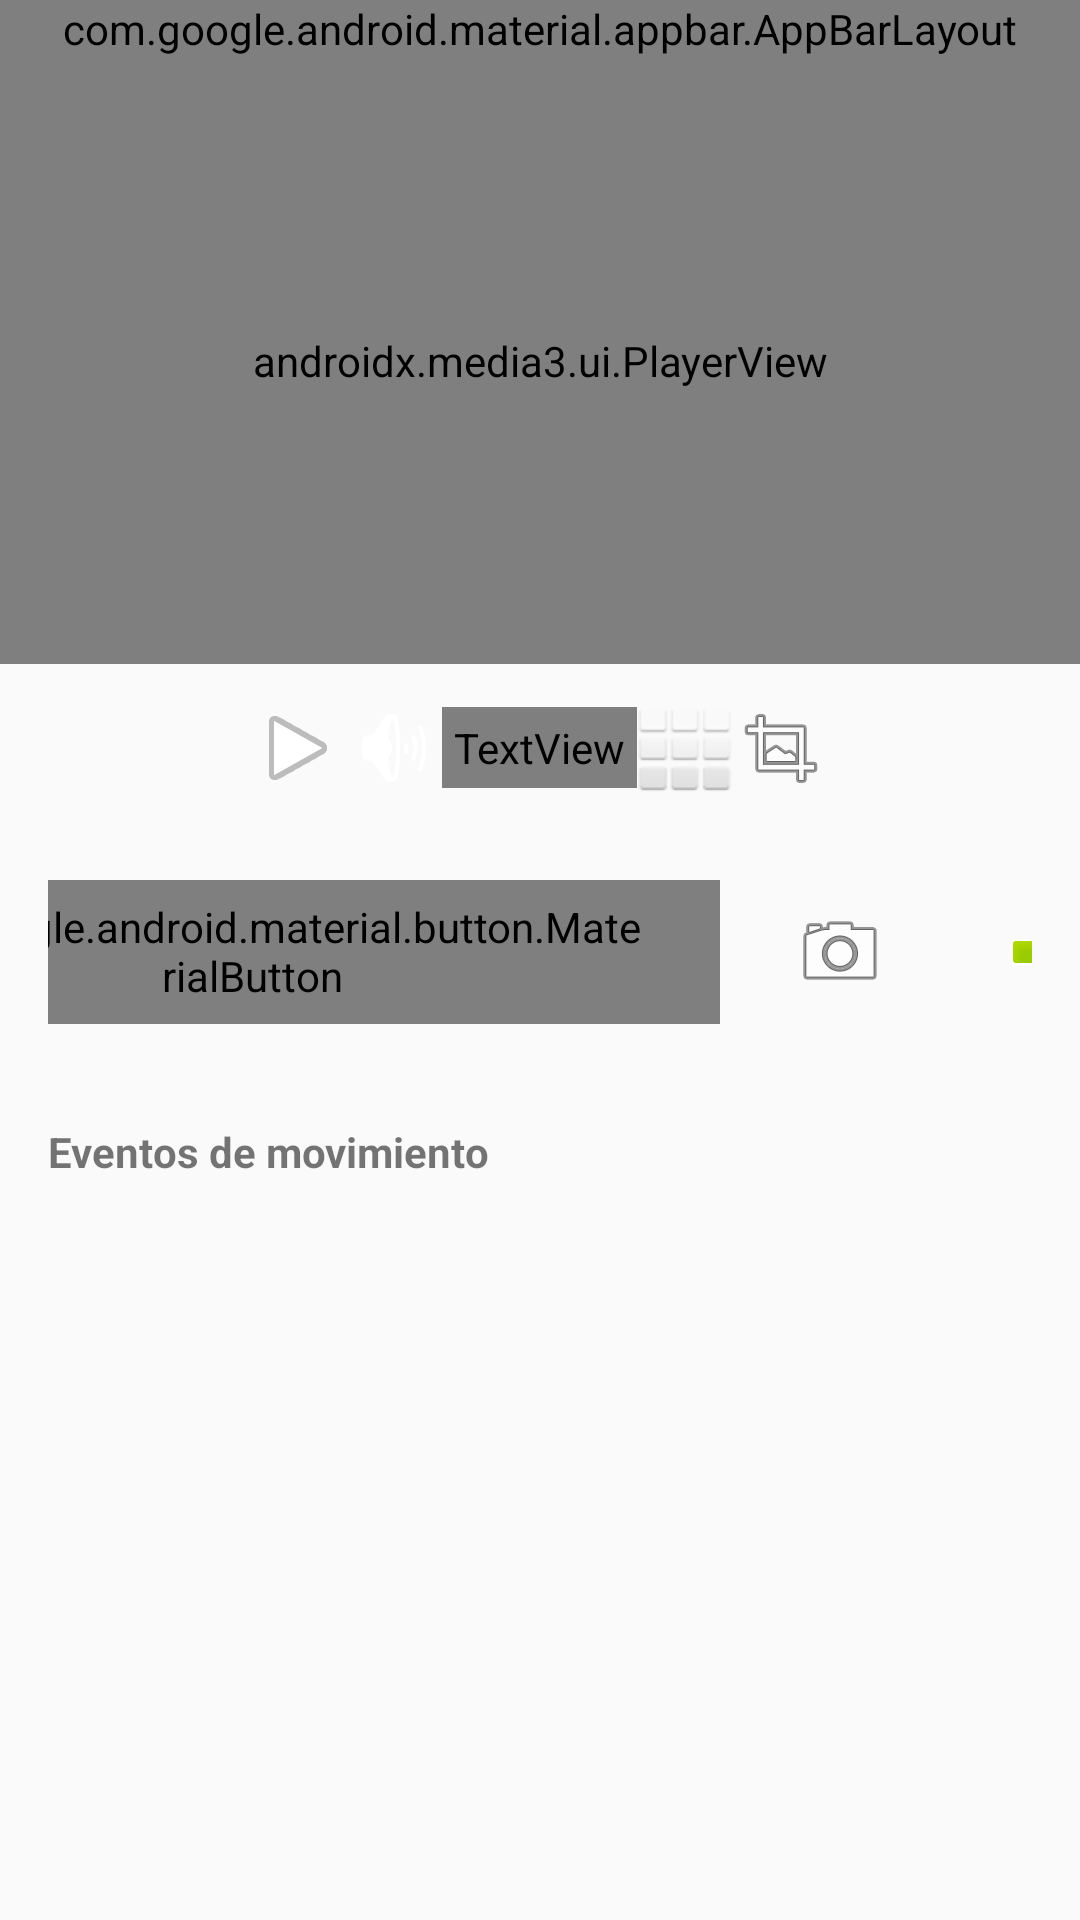

Where icons sit on this 1080 × 1920 app screen, as (x1, y1, x2, y2):
camera: (803, 921, 877, 980)
